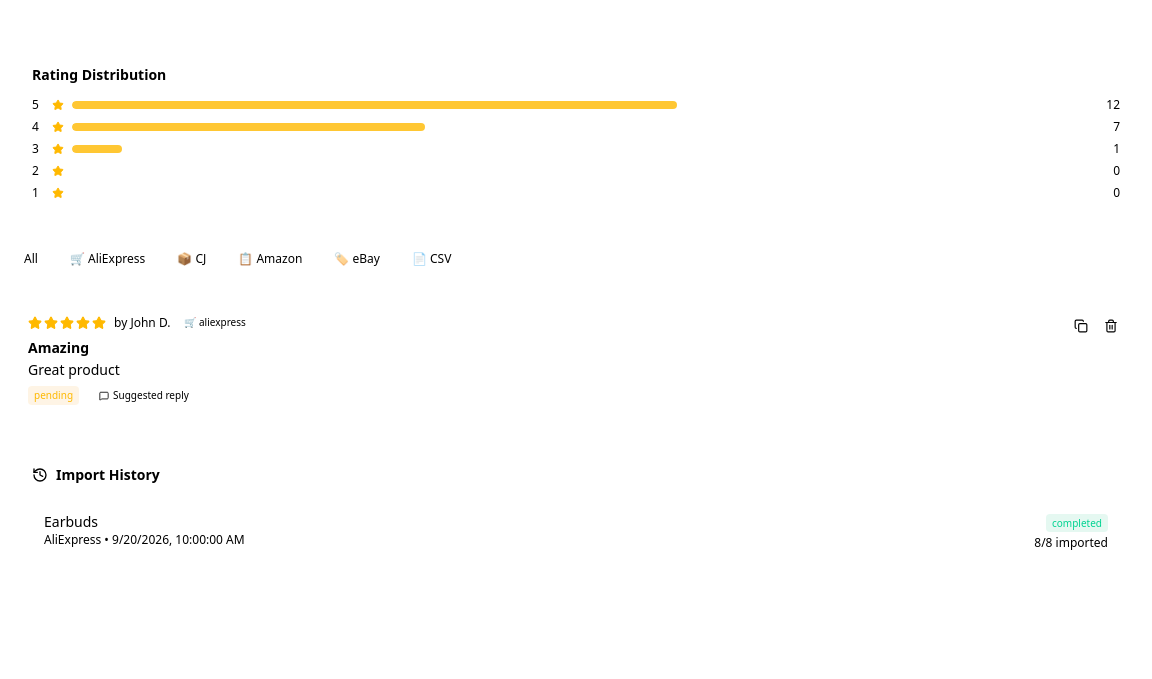
it: ReviewsPage › generates a suggested reply from the template and displays it
The width and height of the screenshot is (1152, 679).
(page scrolled)
Click the button "Suggested reply": (144, 396) x1=91 y1=386 x2=197 y2=405
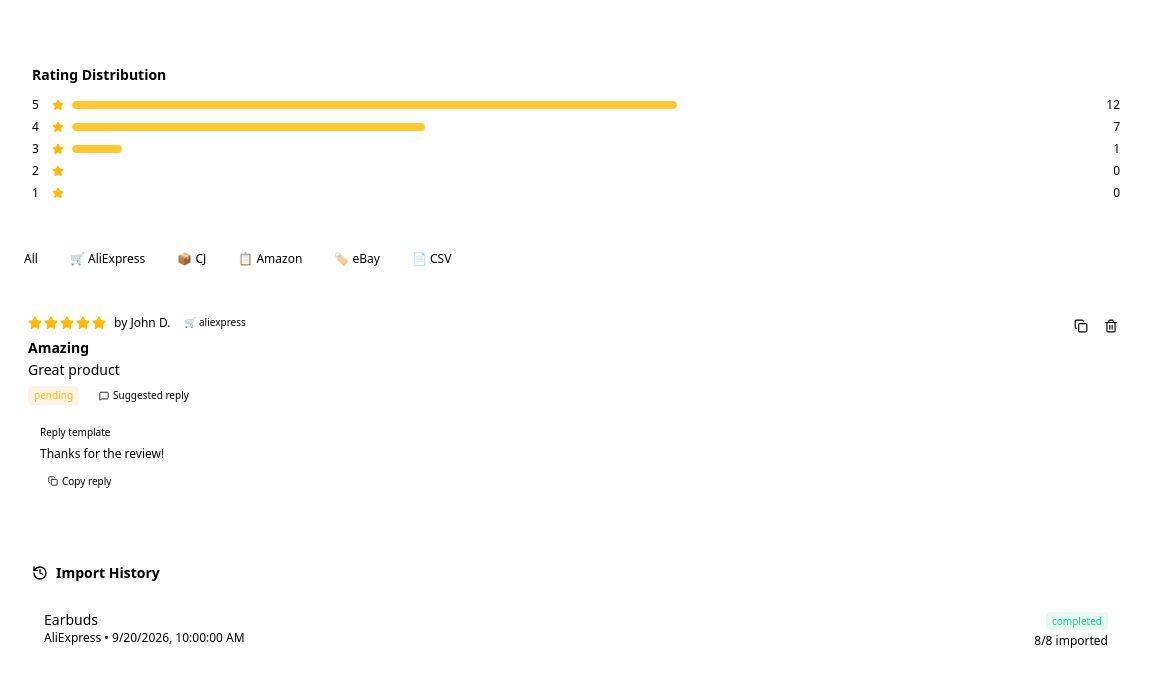
Now the text "Reply template" is shown, box x1=40 y1=425 x2=110 y2=439
Now the text "Thanks for the review!" is shown, box x1=40 y1=445 x2=164 y2=462
